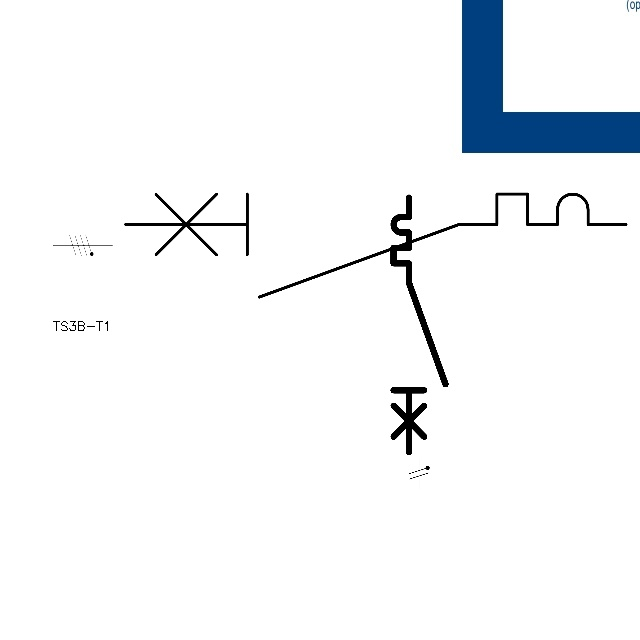interruptor_termomagnetico: (112, 181, 639, 310), (387, 191, 452, 459)
